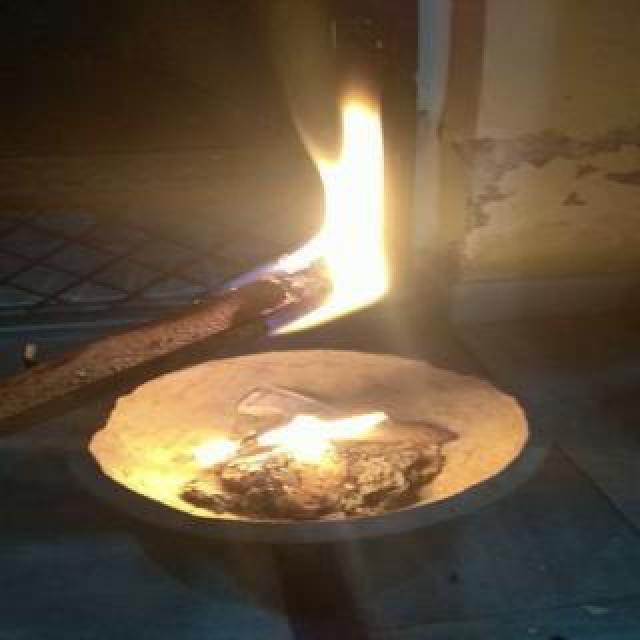zfire: (238, 78, 442, 332), (186, 408, 384, 472)
